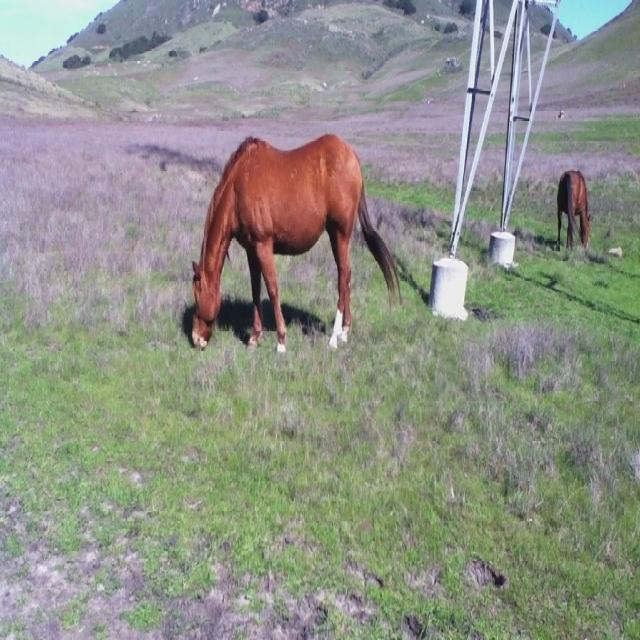Horse: (189, 131, 400, 352)
